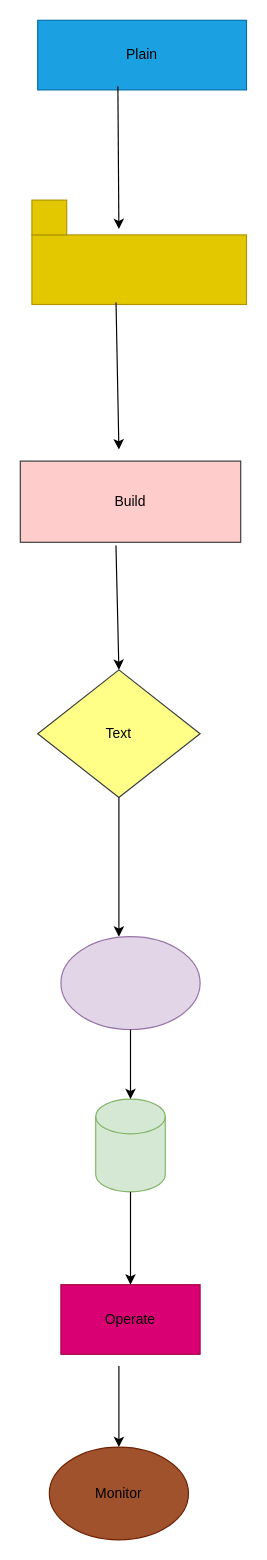
This 267x1560 diagram has some shape labels left out. The box of each missing label's shape, as (x1, y1, x2, y2) in pixels:
Deploy: (95, 1098, 165, 1192)
Develop: (31, 234, 246, 304)
Release: (60, 936, 200, 1030)
